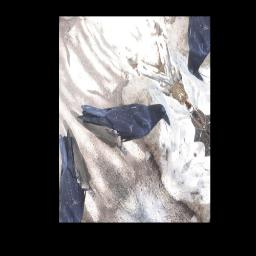Crow: (75, 49, 175, 186)
